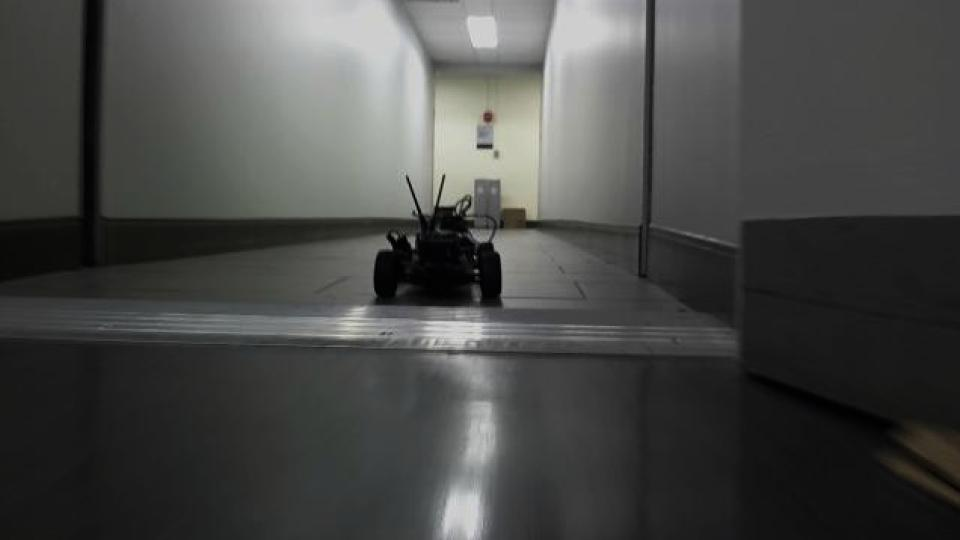car: (368, 170, 504, 304)
